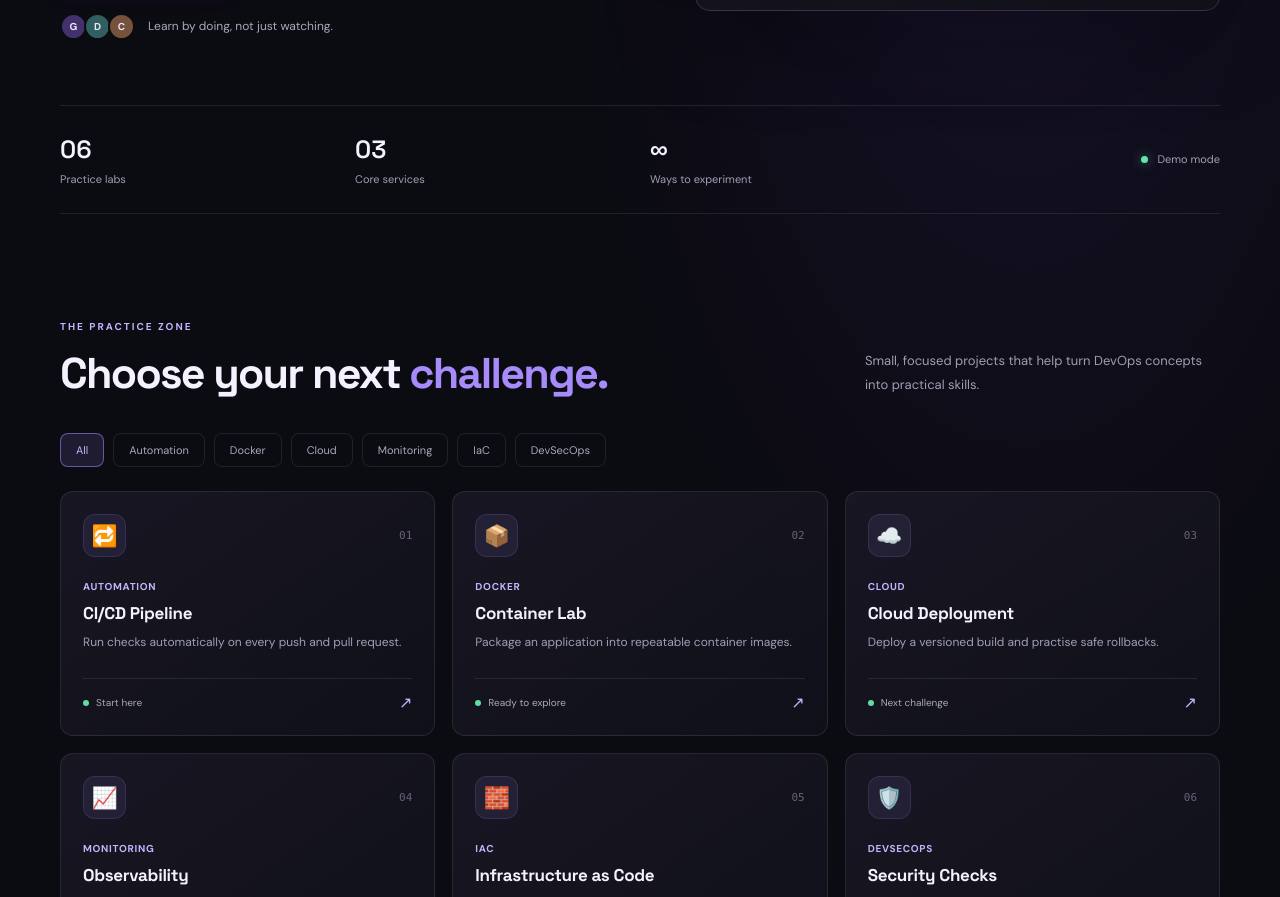
it: LaunchPad app › filters projects by category
(page scrolled)
expect the heading "Container Lab" is shown: met, box [475, 602, 586, 624]
Click the button "Docker".
click(248, 450)  # box [214, 433, 282, 467]
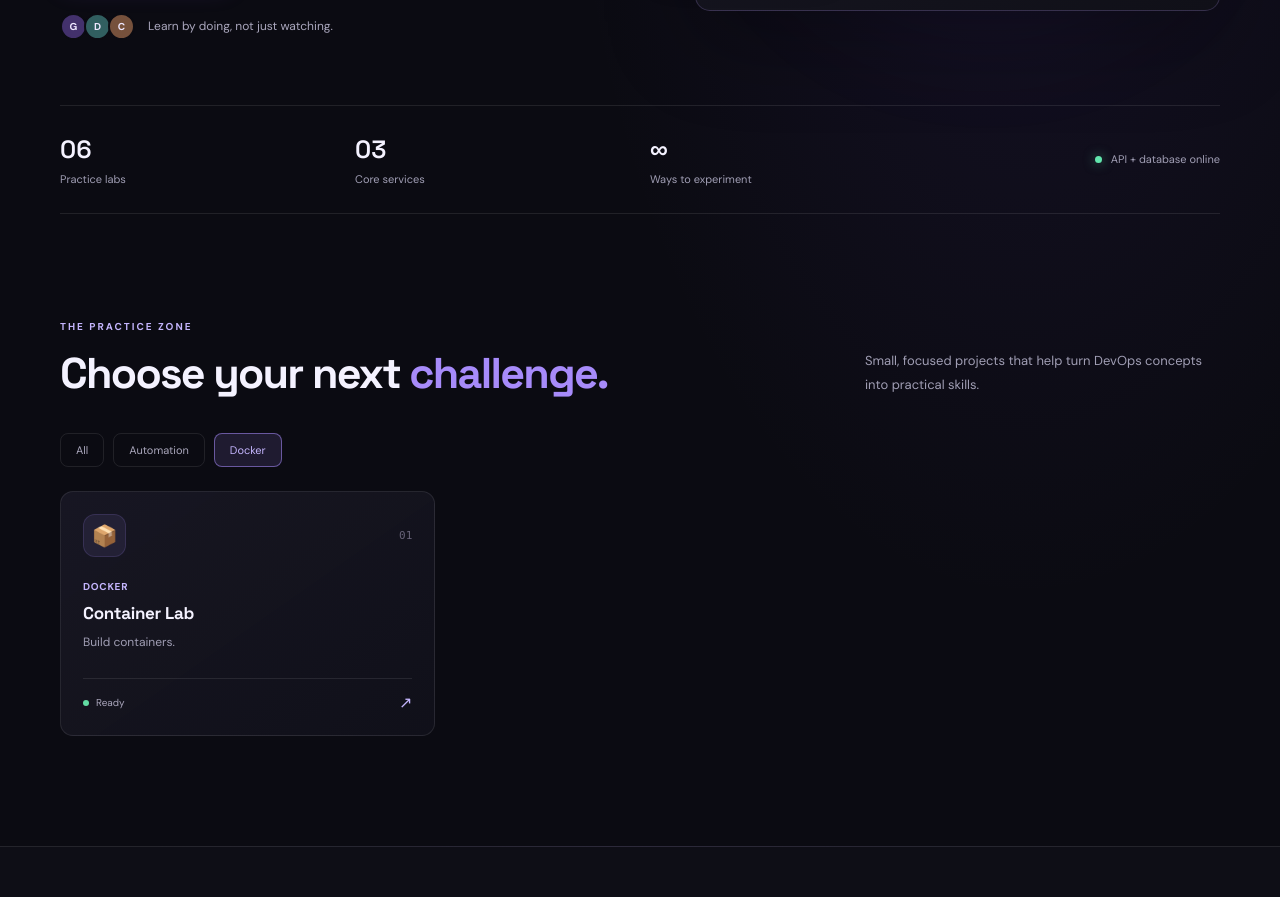
expect the heading "Container Lab" is shown: met, box [83, 602, 194, 624]
expect the heading "CI/CD Pipeline" is gone: met
